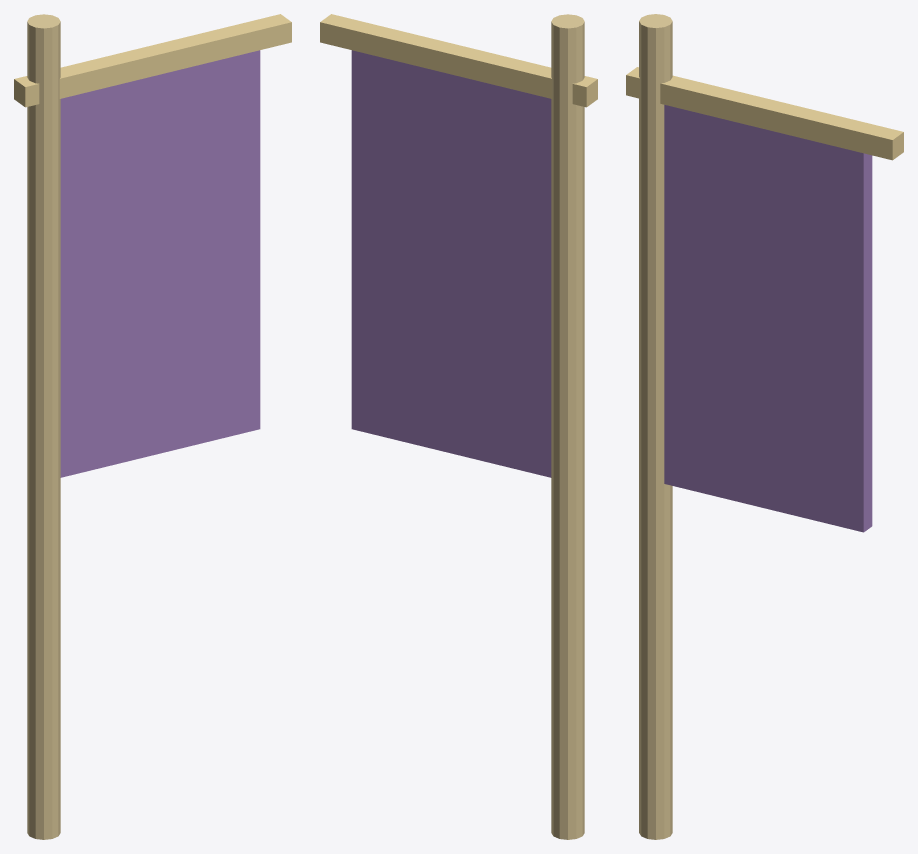
File: banner_violet.glb
The picture shows the model from 3 angles, left to right: view 1: azimuth 30°, elevation 25°; view 2: azimuth 150°, elevation 25°; view 3: azimuth 330°, elevation 25°; orthographic projection.
Parts seen in each view (by area): view 1: cloth, pole, crossbar; view 2: cloth, pole, crossbar; view 3: cloth, pole, crossbar.
Part boxes in pixels (left/top/right/bottom): cloth: left=60, top=50, right=260, bottom=477; pole: left=27, top=14, right=60, bottom=839; crossbar: left=14, top=14, right=291, bottom=107; cloth: left=351, top=50, right=551, bottom=477; pole: left=551, top=14, right=584, bottom=839; crossbar: left=320, top=14, right=597, bottom=107; cloth: left=664, top=105, right=872, bottom=532; pole: left=639, top=14, right=672, bottom=839; crossbar: left=626, top=67, right=903, bottom=160.
Bounding box in the file's own units: 1.1 × 3.2 × 0.12.
